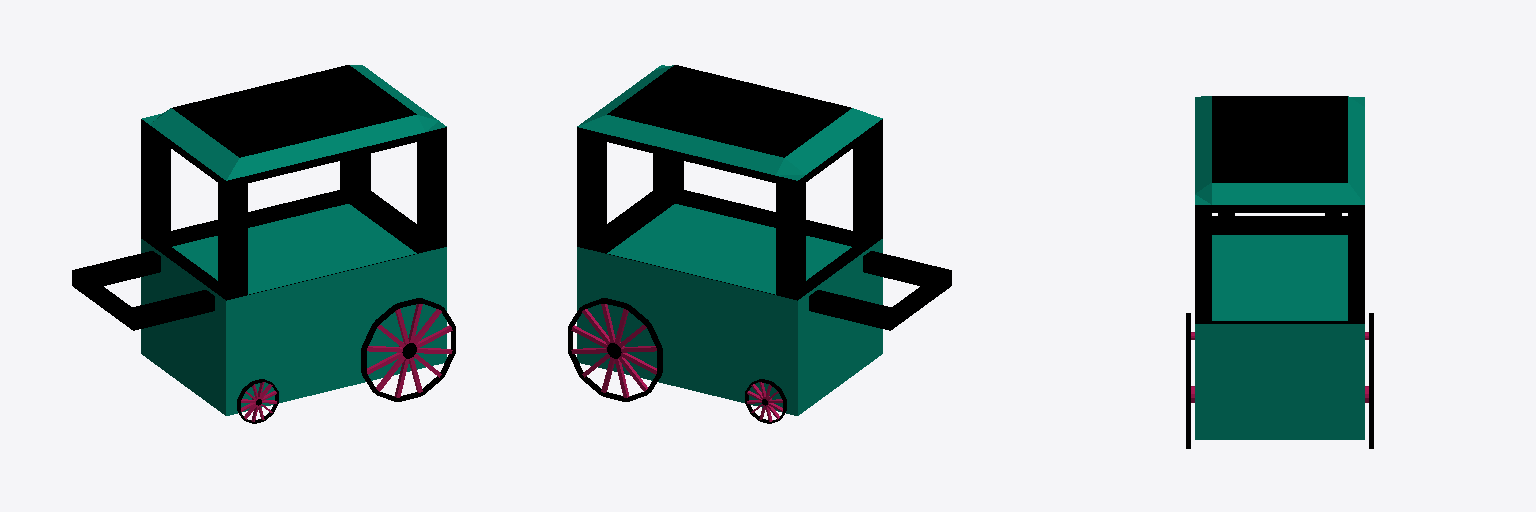
The model's file is cart_001.obj.
The picture shows the model from 3 angles: view 1: azimuth 30°, elevation 25°; view 2: azimuth 150°, elevation 25°; view 3: azimuth 270°, elevation 25°; orthographic projection.
Parts seen in each view (by area): view 1: Box001, Cylinder001, Cylinder002; view 2: Box001, Cylinder001, Cylinder002; view 3: Box001, Cylinder001.
Part boxes in pixels (bbox=[...]): Box001: bbox=[72, 65, 446, 415]; Cylinder001: bbox=[361, 298, 455, 401]; Cylinder002: bbox=[237, 379, 278, 423]; Box001: bbox=[577, 65, 951, 415]; Cylinder001: bbox=[568, 298, 662, 401]; Cylinder002: bbox=[745, 379, 786, 423]; Box001: bbox=[1195, 96, 1364, 439]; Cylinder001: bbox=[1186, 340, 1373, 448].
Size of the model in its own units: 41.62 by 35.1 by 22.